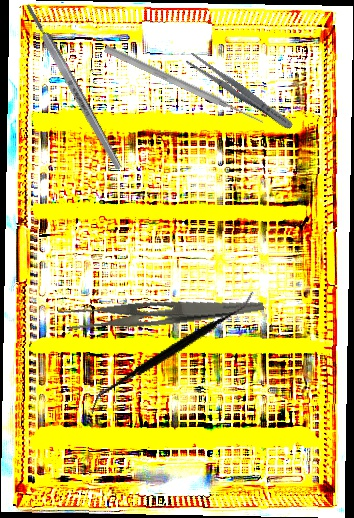Dressing Forceps: (57, 278, 265, 341), (184, 50, 296, 134)
Pusher: (102, 43, 266, 128)
Scalpel Handle: (23, 2, 124, 172)
Spatula Surgical: (89, 250, 256, 455)
